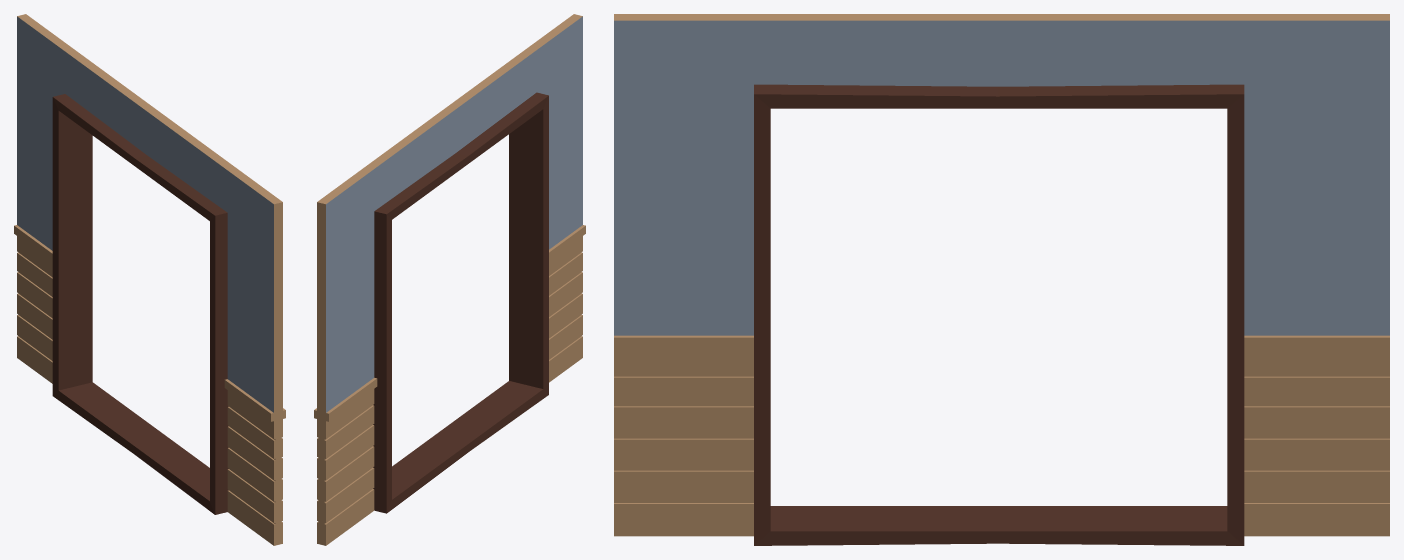
File: Int. Door B.glb
3 renders of one model, left to right at view 1: azimuth 30°, elevation 25°; view 2: azimuth 150°, elevation 25°; view 3: azimuth 270°, elevation 25°, orthographic. The views are drawn at different scales.
Parts seen in each view (by area): view 1: Int. Door B; view 2: Int. Door B; view 3: Int. Door B.
Boxes of the visible parts, left/top/right/bottom form: Int. Door B: left=14, top=14, right=285, bottom=545; Int. Door B: left=314, top=14, right=585, bottom=545; Int. Door B: left=614, top=14, right=1389, bottom=545.
Size of the model in its own units: 0.2339 by 2.2 by 3.
